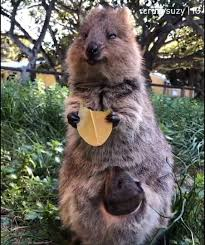quokka: (49, 4, 177, 245)
